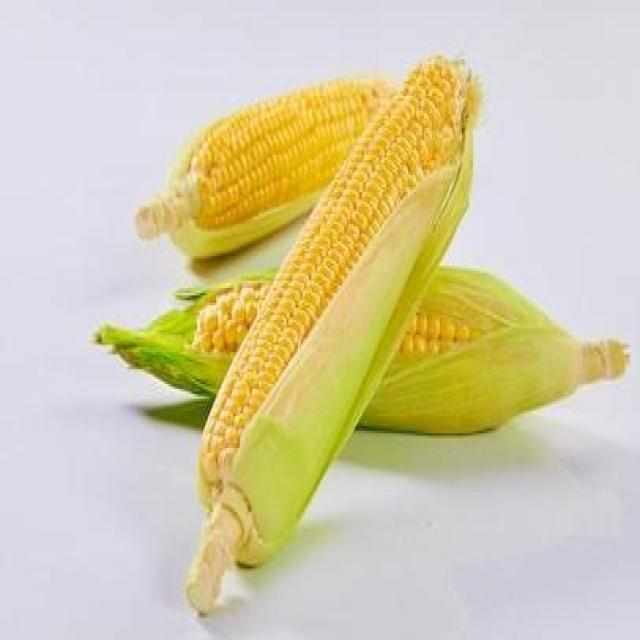Corn ear: (204, 186, 353, 497), (354, 60, 475, 266), (172, 80, 318, 239)
